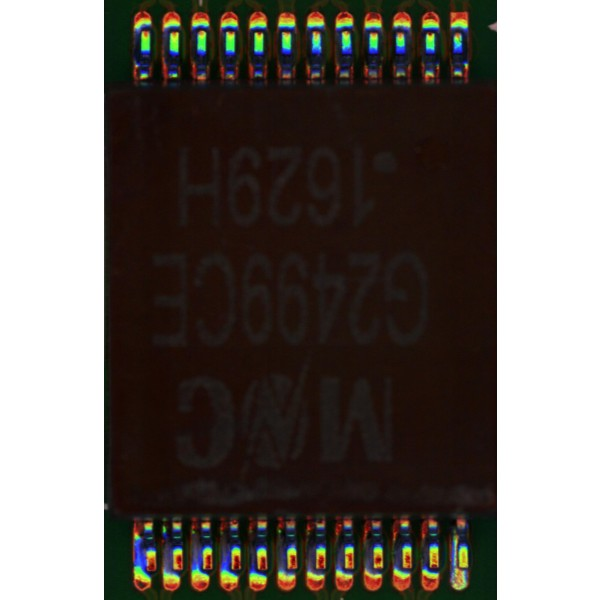Bad_podu: (458, 564, 466, 578)
Bad_qiaojiao: (451, 530, 458, 566)
